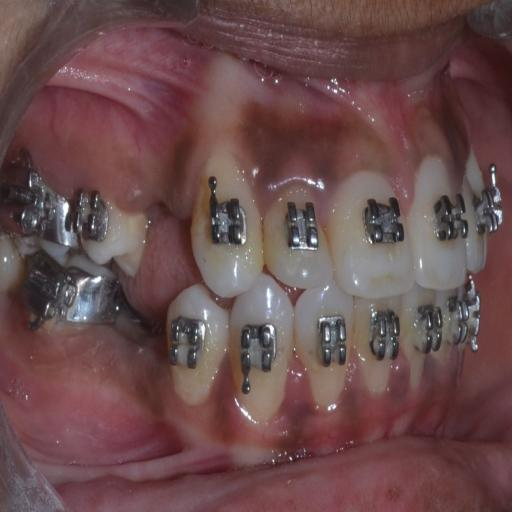correct_brace: (164, 282, 226, 406), (204, 177, 246, 255), (238, 320, 276, 398), (170, 308, 208, 378), (362, 190, 405, 250), (431, 185, 467, 248), (285, 200, 319, 255), (319, 309, 347, 373)
incorrect_brace: (266, 180, 332, 290), (296, 281, 352, 409)
